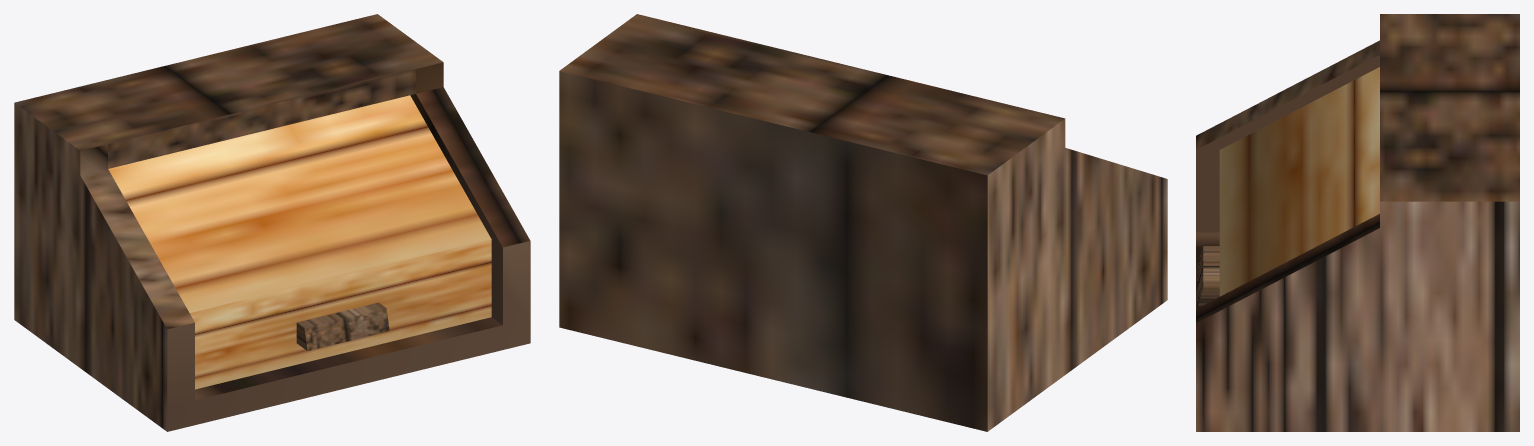
Rendered from bread container.FBX.
3 renders of one model, left to right at view 1: azimuth 30°, elevation 25°; view 2: azimuth 150°, elevation 25°; view 3: azimuth 270°, elevation 25°, orthographic. The views are drawn at different scales.
Visible parts, largest first — view 1: Box002, Object001, Object002; view 2: Box002; view 3: Box002, Object001, Object002.
Part boxes in pixels (<box>): Box002: <box>14,14,530,431</box>; Object001: <box>108,95,491,389</box>; Object002: <box>296,302,389,350</box>; Box002: <box>559,14,1167,431</box>; Box002: <box>1196,14,1519,431</box>; Object001: <box>1219,67,1379,296</box>; Object002: <box>1196,246,1219,308</box>.
Size of the model in its own units: 30.4 by 17.4 by 22.17.
Materials: 2 (2 with a texture image).
